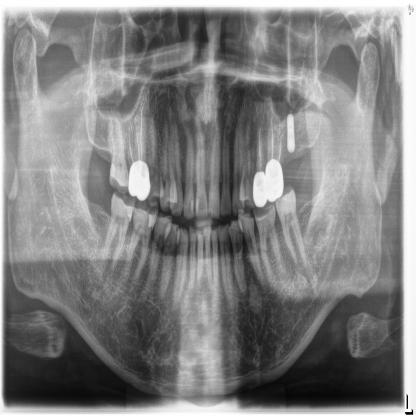ITI: (282, 104, 299, 155)
